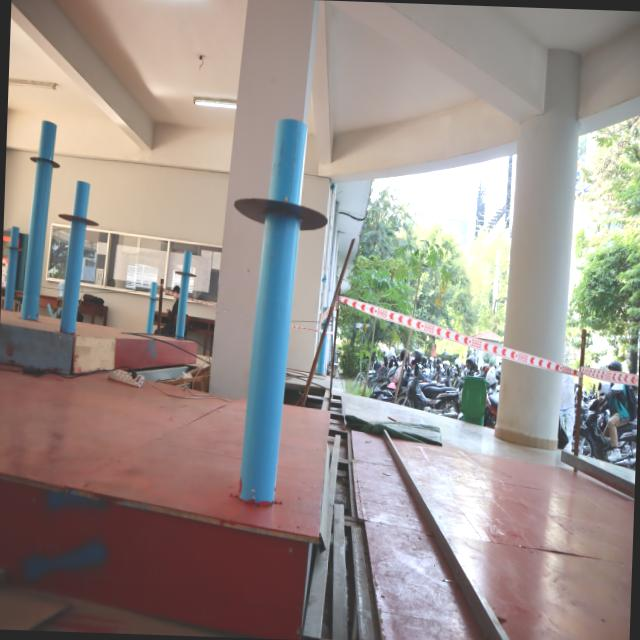pole: (225, 106, 338, 326), (58, 178, 102, 268), (19, 117, 67, 196), (168, 244, 202, 292), (2, 224, 24, 268), (143, 282, 163, 308)
